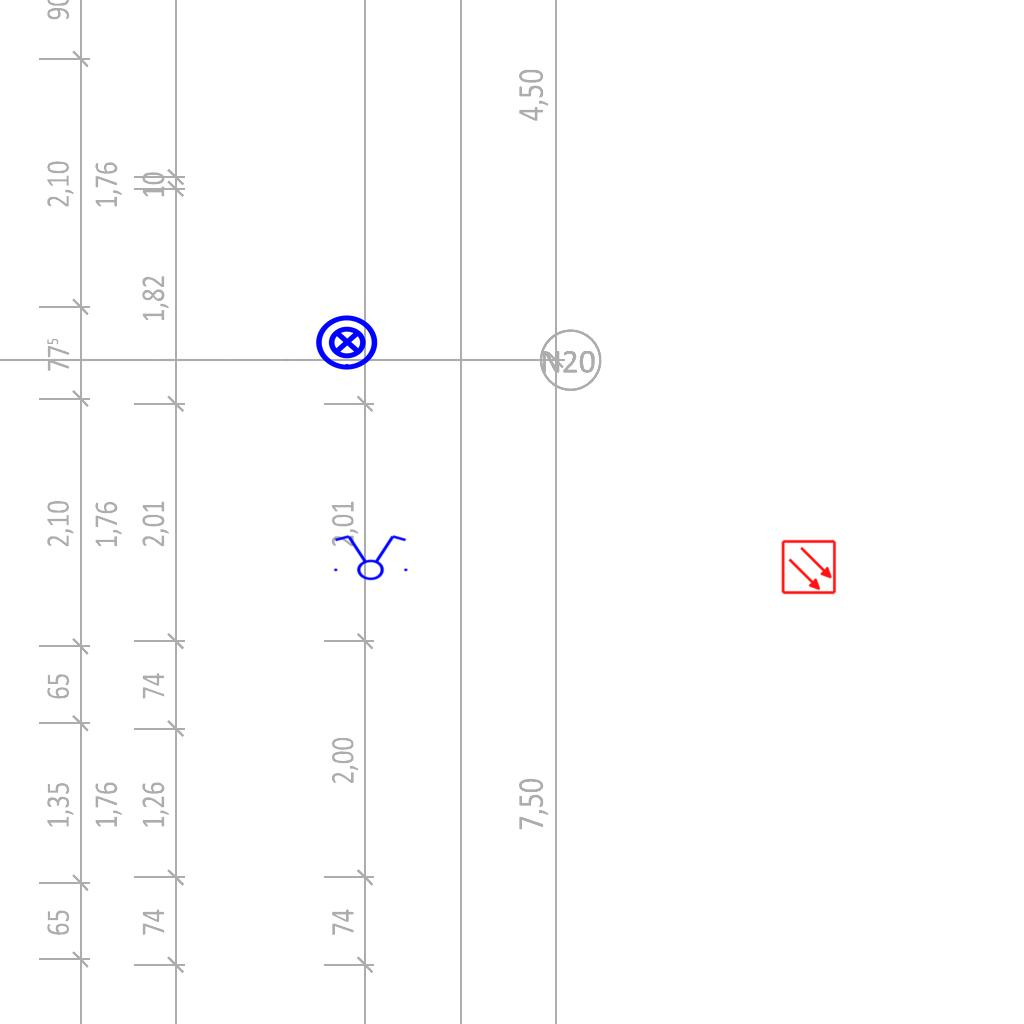RMO_Rauchmelder_optischer: (781, 539, 837, 595)
Serienschalter: (328, 533, 412, 581)
Taster_beleuchtet: (314, 309, 380, 375)
